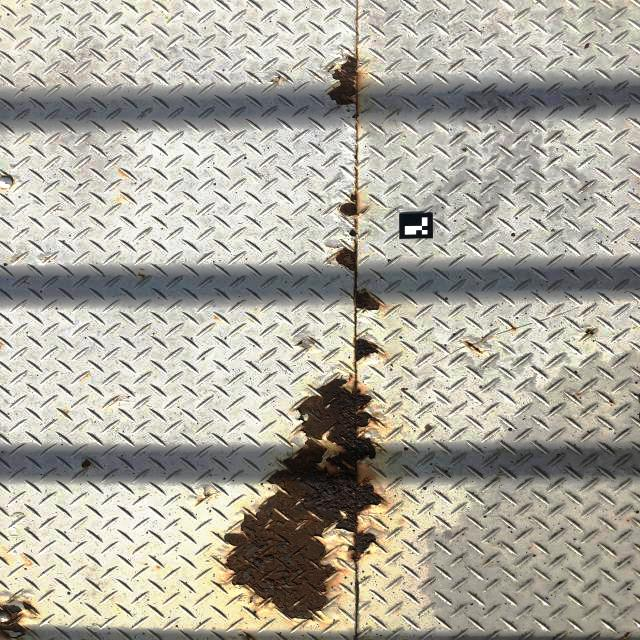Corrosion: (226, 380, 383, 620), (0, 597, 39, 640), (328, 55, 359, 104), (334, 239, 359, 275), (355, 339, 380, 361), (356, 289, 382, 310), (340, 202, 358, 216), (465, 341, 483, 354), (196, 492, 212, 505), (349, 190, 358, 205), (81, 459, 92, 468), (325, 65, 335, 73), (349, 229, 358, 236), (585, 329, 595, 335), (360, 208, 369, 214), (510, 325, 517, 331), (245, 633, 251, 639), (354, 154, 358, 162), (275, 75, 281, 80), (609, 400, 614, 405), (379, 277, 384, 279)
